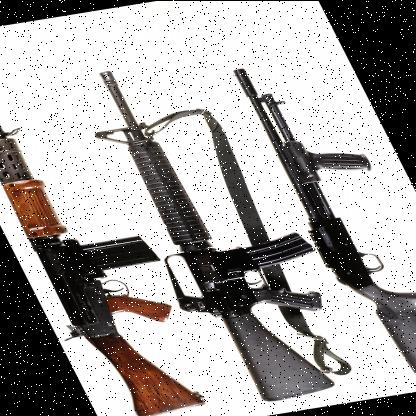rifle: (58, 43, 372, 415), (0, 34, 228, 416), (226, 47, 416, 380)
